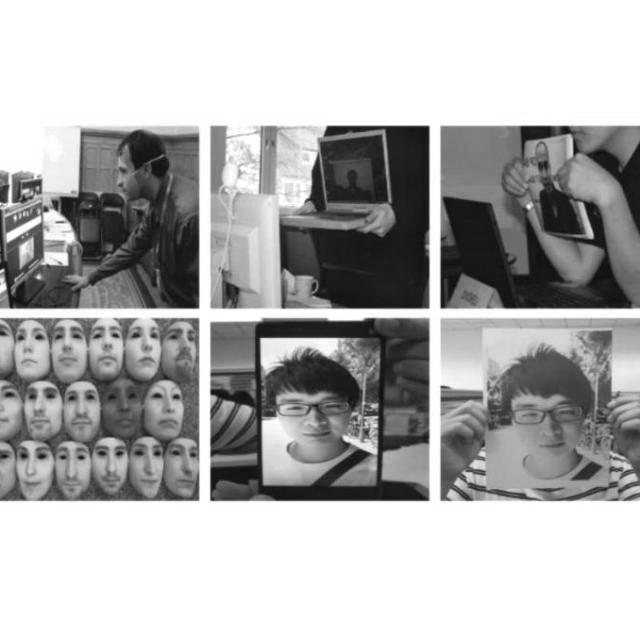fake: (256, 317, 388, 496), (478, 324, 616, 494), (523, 131, 594, 242)
